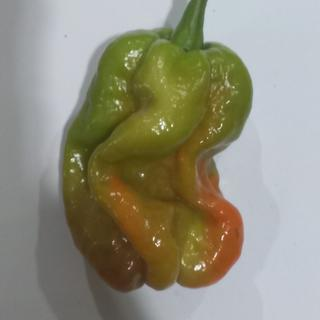Grade-A: (56, 19, 259, 295)
